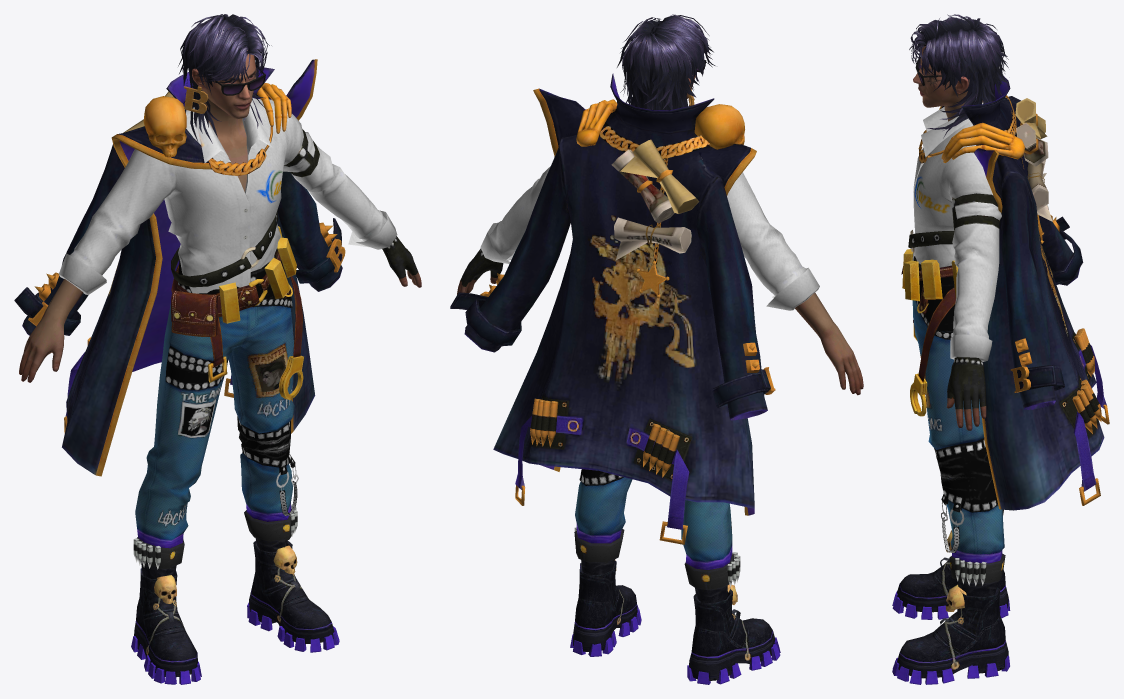
The model's file is New Elite Pass Male.obj.
3 views of the same model, side by side, from view 1: azimuth 30°, elevation 25°; view 2: azimuth 150°, elevation 25°; view 3: azimuth 270°, elevation 25° (orthographic).
Visible parts, largest first — view 1: Male_Lobby_Top_Cos_Pursuer, Male_Lobby_Bottom_Cos_Pursuer, Male_Lobby_Shoe_Cos_Pursuer, Male_Lobby_Hair_Cos_Pursuer, Male_Lobby_Head_Cos_Pursuer; view 2: Male_Lobby_Top_Cos_Pursuer, Male_Lobby_Shoe_Cos_Pursuer, Male_Lobby_Bottom_Cos_Pursuer, Male_Lobby_Hair_Cos_Pursuer; view 3: Male_Lobby_Top_Cos_Pursuer, Male_Lobby_Bottom_Cos_Pursuer, Male_Lobby_Shoe_Cos_Pursuer, Male_Lobby_Hair_Cos_Pursuer, Male_Lobby_Head_Cos_Pursuer.
Boxes of the visible parts, bbox=[...] form: Male_Lobby_Top_Cos_Pursuer: bbox=[14, 59, 421, 476]; Male_Lobby_Bottom_Cos_Pursuer: bbox=[133, 226, 303, 578]; Male_Lobby_Shoe_Cos_Pursuer: bbox=[131, 540, 339, 684]; Male_Lobby_Hair_Cos_Pursuer: bbox=[178, 14, 271, 143]; Male_Lobby_Head_Cos_Pursuer: bbox=[192, 50, 256, 119]; Male_Lobby_Top_Cos_Pursuer: bbox=[450, 73, 863, 544]; Male_Lobby_Shoe_Cos_Pursuer: bbox=[570, 559, 780, 684]; Male_Lobby_Bottom_Cos_Pursuer: bbox=[574, 469, 740, 603]; Male_Lobby_Hair_Cos_Pursuer: bbox=[617, 14, 715, 110]; Male_Lobby_Top_Cos_Pursuer: bbox=[908, 75, 1109, 510]; Male_Lobby_Bottom_Cos_Pursuer: bbox=[901, 249, 1005, 597]; Male_Lobby_Shoe_Cos_Pursuer: bbox=[892, 530, 1010, 684]; Male_Lobby_Hair_Cos_Pursuer: bbox=[909, 14, 1008, 138]; Male_Lobby_Head_Cos_Pursuer: bbox=[913, 44, 969, 107].
Size of the model in its own units: 0.6527 by 0.9871 by 0.3116.
Materials: 8 (8 with a texture image).
